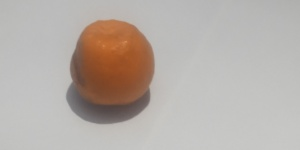BAD: (67, 18, 156, 109)
